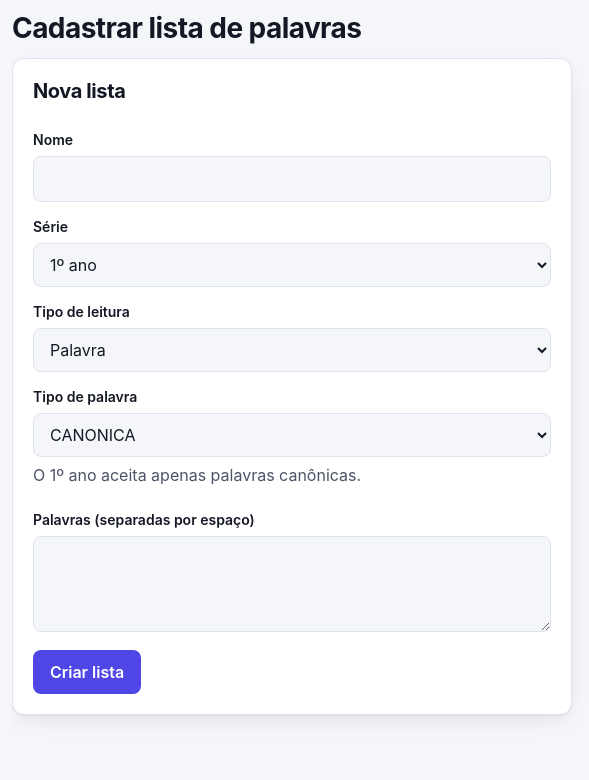
Scenario: ListasPalavrasPage › disables NAO_CANONICA for the 1º ano and sends CANONICA
Type "Lista Nova" into the field labelled "Nome" at (292, 179), box [33,156,551,202]
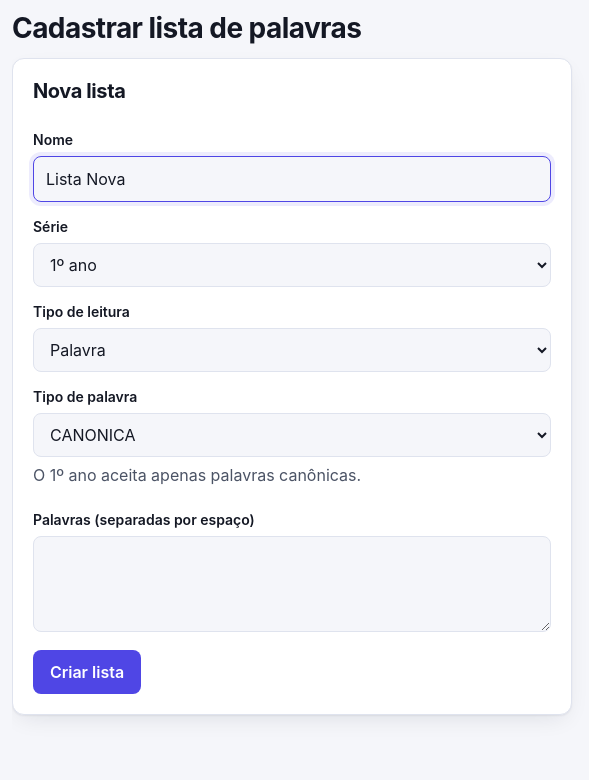
Select "1º ano" in the dropdown labelled "Série" at (292, 265), box [33,243,551,287]
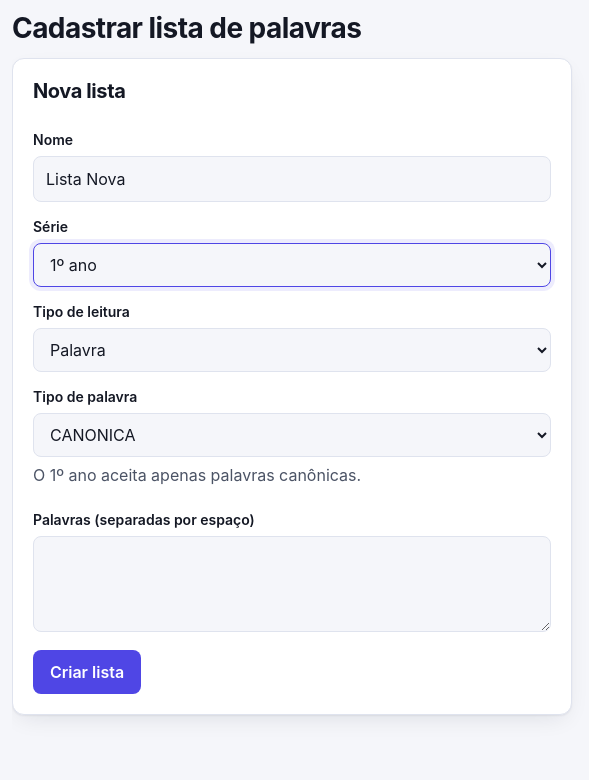
Type "gato bola" into the text box labelled "Palavras (separadas por espaço)" at (292, 584), box [33,536,551,632]
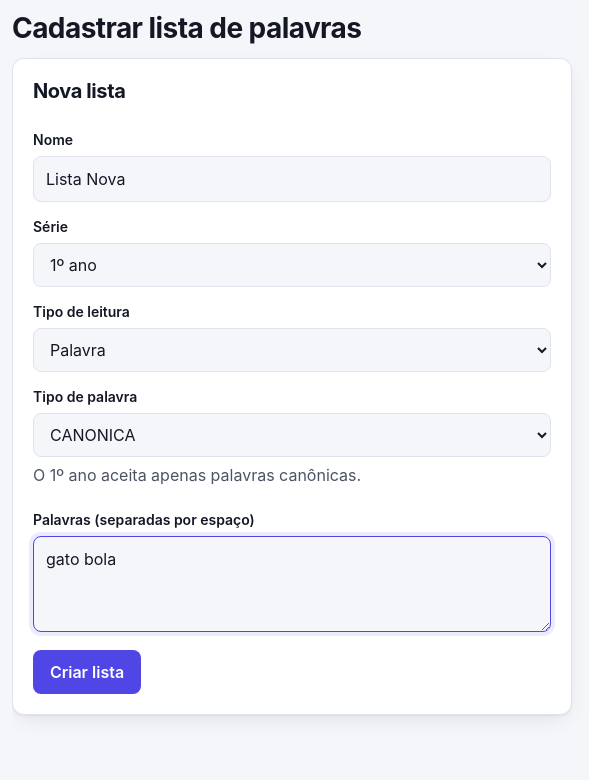
Click the button "Criar lista" at (87, 672), box [33,650,141,694]
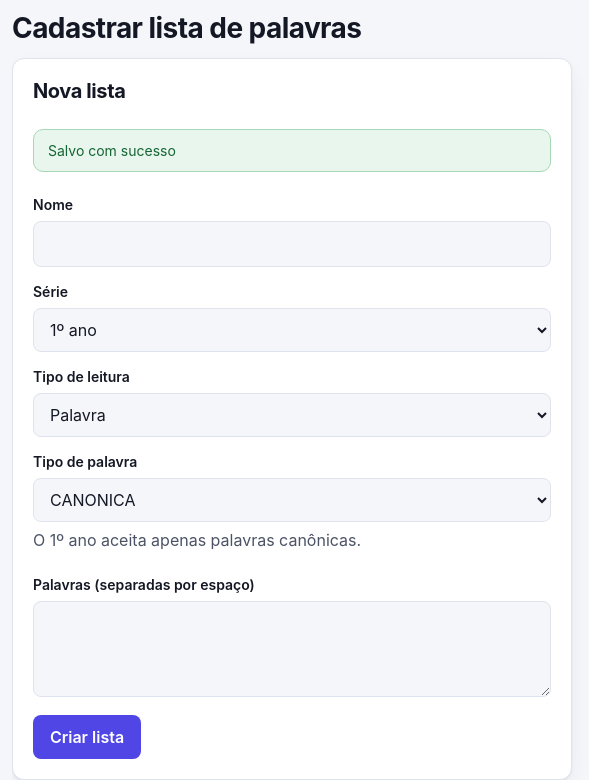
Now the text "Salvo com sucesso" is shown, box [33,129,551,172]
